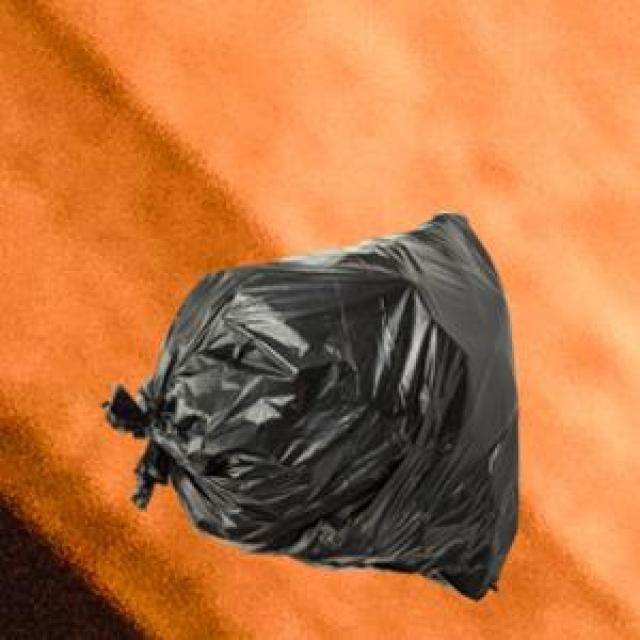Vinyl: (155, 224, 509, 590)
